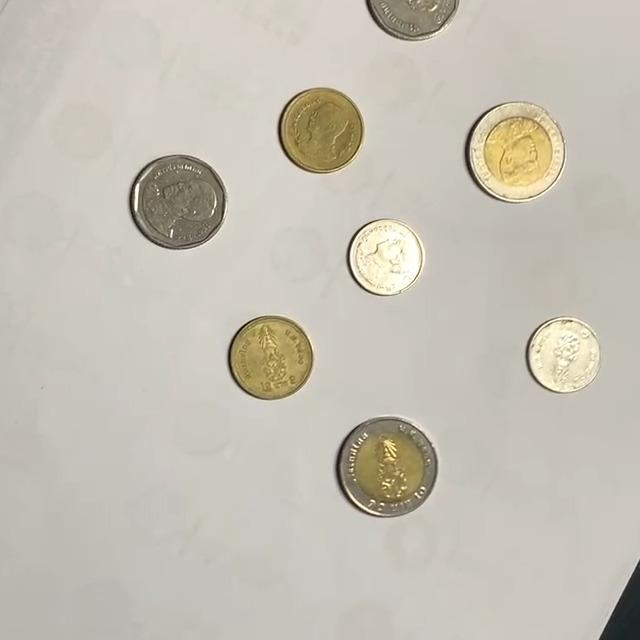1-baht: (526, 316, 604, 394), (348, 219, 426, 297)
10-baht: (339, 417, 439, 518), (468, 102, 567, 203)
2-baht: (279, 87, 366, 173), (228, 315, 315, 401)
5-baht: (131, 155, 230, 251), (366, 0, 462, 42)
